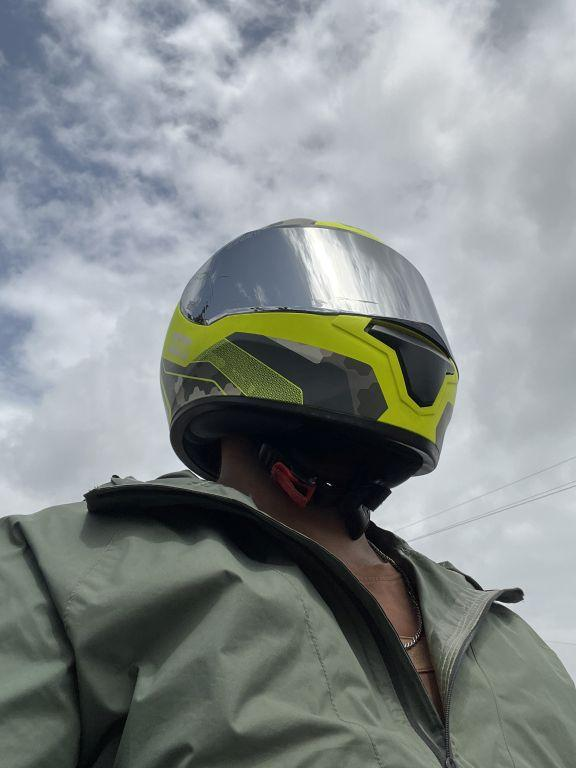helmet: (142, 205, 468, 505)
